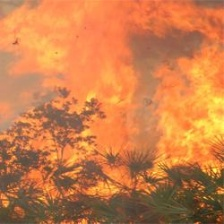fire: (8, 13, 224, 200)
